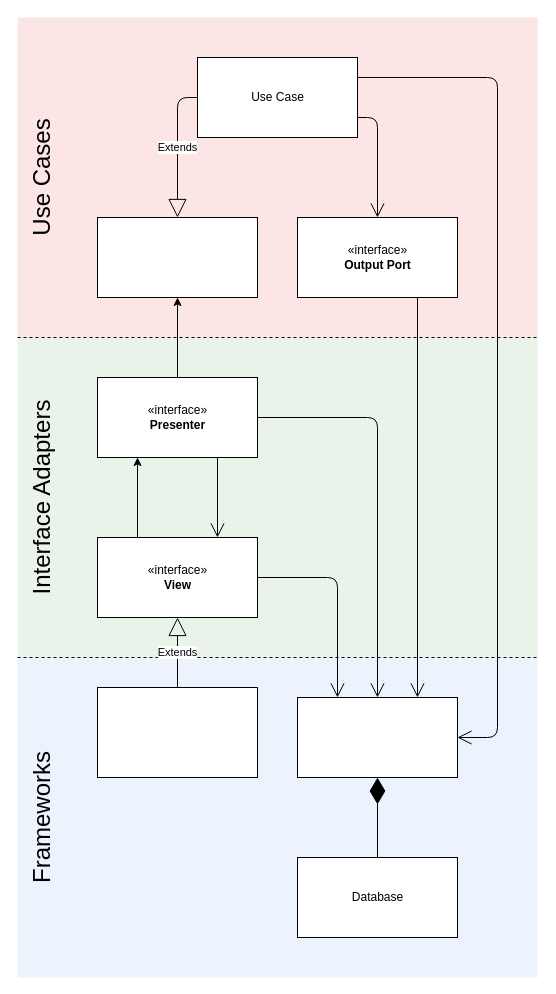
Image size: 556x994. Some labels were removed from this diagram. The centre of each missing label's shape, as x and y in pixels:
Database Model: the point at 377,737
View Implementation: the point at 177,732
«interface» Input Port: the point at 177,257
